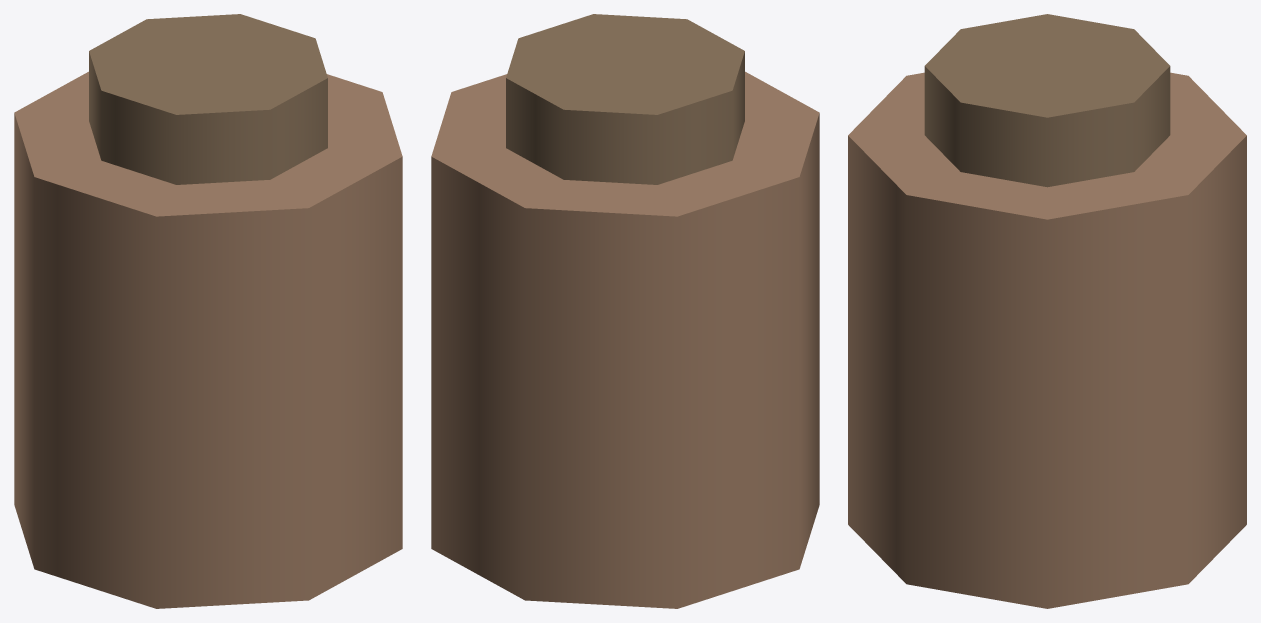
File: spread-portable-brew-coating.fbx
3 renders of one model, left to right at view 1: azimuth 30°, elevation 25°; view 2: azimuth 150°, elevation 25°; view 3: azimuth 270°, elevation 25°, orthographic.
Parts seen in each view (by area): view 1: spread-portable-brew-coating__Geometry; view 2: spread-portable-brew-coating__Geometry; view 3: spread-portable-brew-coating__Geometry.
Boxes of the visible parts, left/top/right/bottom form: spread-portable-brew-coating__Geometry: left=14, top=14, right=402, bottom=608; spread-portable-brew-coating__Geometry: left=431, top=14, right=819, bottom=608; spread-portable-brew-coating__Geometry: left=848, top=14, right=1246, bottom=608.
Size of the model in its own units: 0.26 by 0.33 by 0.26.
